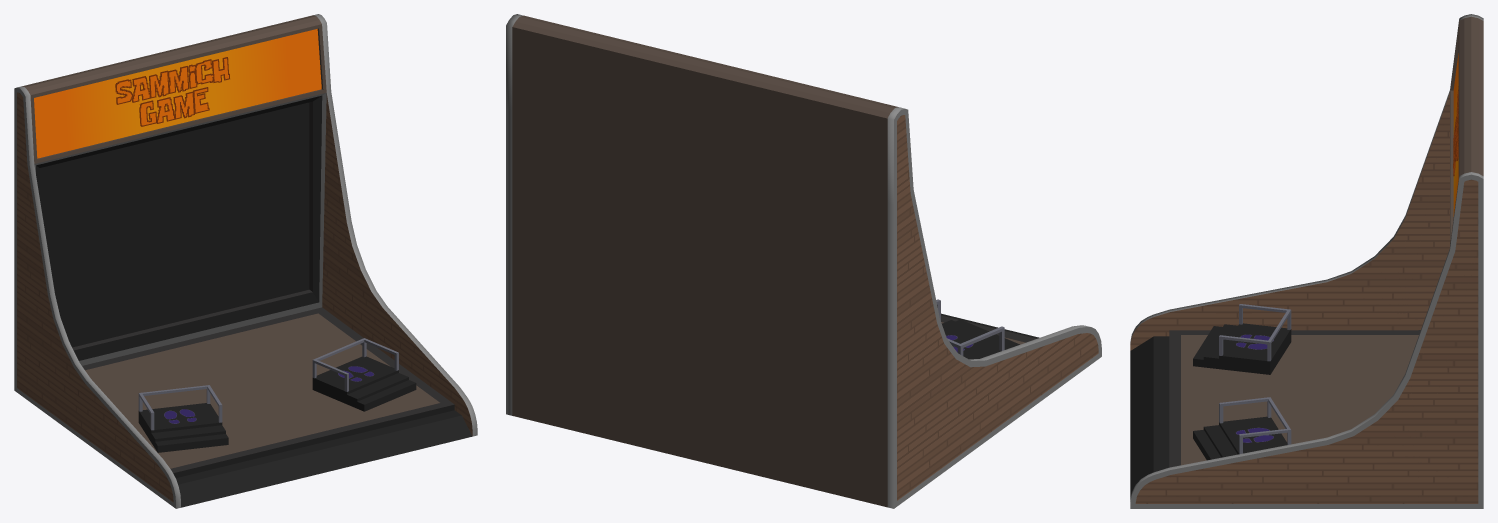
The model's file is sammich-screen.glb.
3 views of the same model, side by side, from view 1: azimuth 30°, elevation 25°; view 2: azimuth 150°, elevation 25°; view 3: azimuth 270°, elevation 25° (orthographic). The views are drawn at different scales.
Parts seen in each view (by area): view 1: Frame, Stand_right, Stand_left, Curve.014, Curve.020; view 2: Frame, Stand_left; view 3: Frame, Stand_left, Stand_right.
Part boxes in pixels (box(x1,y1,x2,y2)): Frame: box(14, 14, 477, 508); Stand_right: box(312, 338, 416, 411); Stand_left: box(138, 385, 228, 452); Curve.014: box(117, 58, 228, 125); Curve.020: box(115, 57, 229, 126); Frame: box(506, 14, 1101, 508); Stand_left: box(936, 299, 1019, 359); Frame: box(1130, 14, 1483, 508); Stand_left: box(1193, 304, 1291, 374); Stand_right: box(1193, 397, 1291, 460).
Size of what is drawn, in the model's own units: 6.62 by 6.42 by 6.15.
6 materials, 6 textured.
